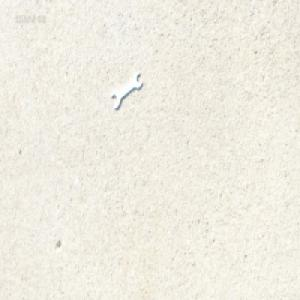Wrench: (110, 70, 143, 109)
